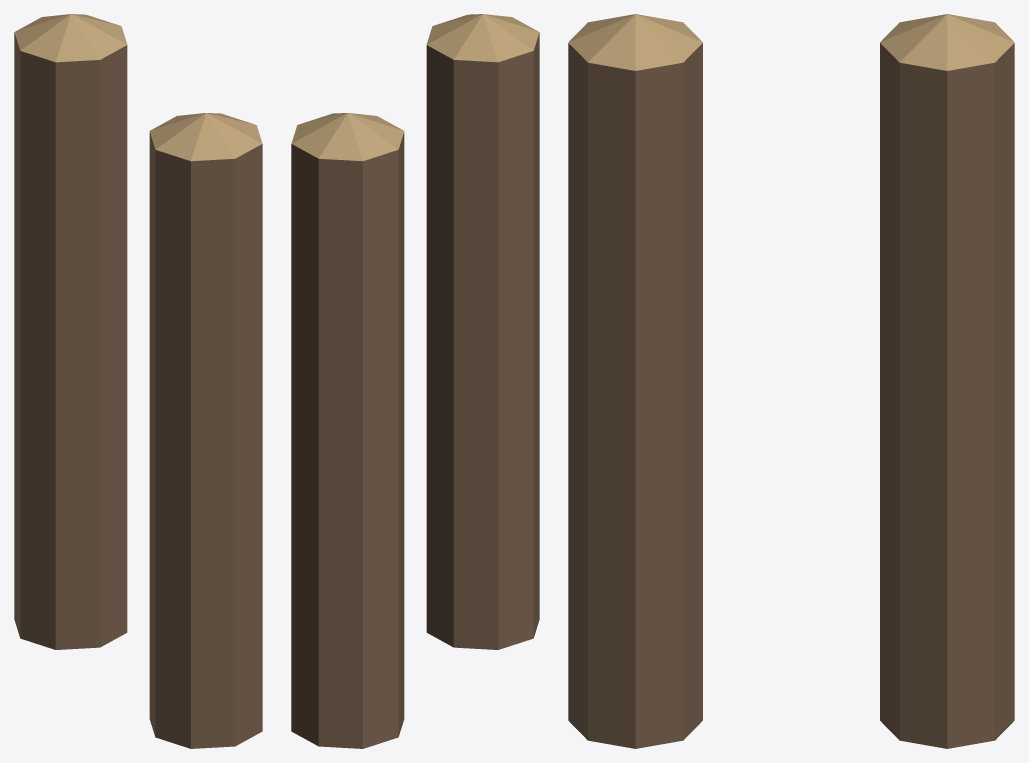
Rendered from Beach_Prop_Docks_Straight_Supports.obj.
The picture shows the model from 3 angles, left to right: view 1: azimuth 30°, elevation 25°; view 2: azimuth 150°, elevation 25°; view 3: azimuth 270°, elevation 25°; orthographic projection. The views are drawn at different scales.
Parts seen in each view (by area): view 1: object1, object2; view 2: object1, object2; view 3: object1, object2.
Boxes of the visible parts, left/top/right/bottom form: object1: left=14, top=14, right=127, bottom=649; object2: left=149, top=113, right=262, bottom=748; object1: left=291, top=113, right=404, bottom=748; object2: left=426, top=14, right=539, bottom=649; object1: left=880, top=14, right=1014, bottom=748; object2: left=568, top=14, right=702, bottom=748.
Bounding box in the file's own units: 0.2165 × 1.25 × 0.7165.
